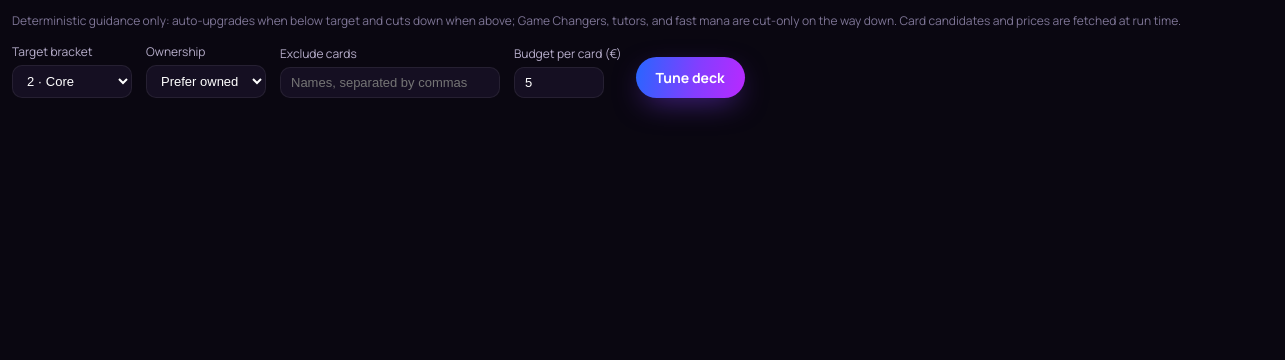
Test: BracketTuner Pro explanation affordance › discloses the data boundary and applies prose only to exact deterministic pairs
The width and height of the screenshot is (1285, 360).
What coordinates should you click on to do the following:
click the button "Tune deck"
I would click on:
 (690, 78)
Its box is [636,57,745,98].
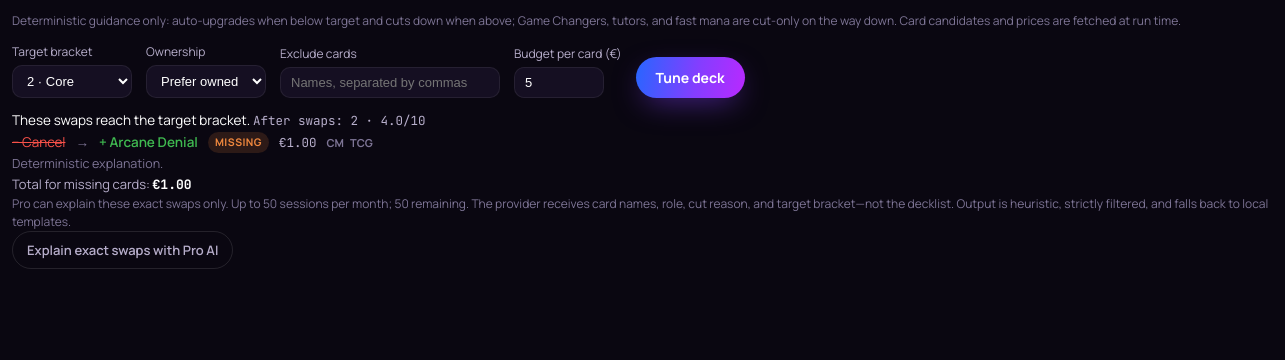
Now the text "provider receives card names, role, cut reason, and target bracket—not the decklist" is shown, box [12,195,1268,230]
What coordinates should you click on to do the following:
click the button "Explain exact swaps with Pro AI"
I would click on:
 (123, 250)
Its box is [12,231,233,269].
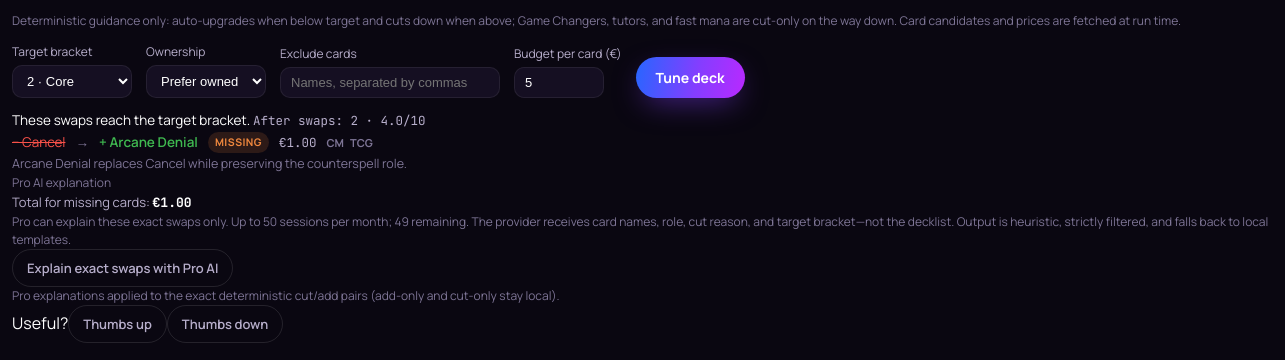
Now the text "Arcane Denial replaces Cancel while preserving the counterspell role." is shown, box [12,155,407,172]
Now the text "Pro AI explanation" is shown, box [12,174,111,190]
